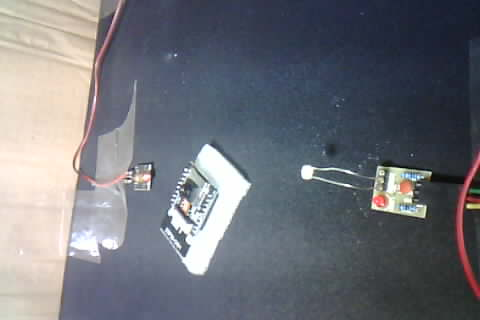esp32: (159, 143, 252, 276)
